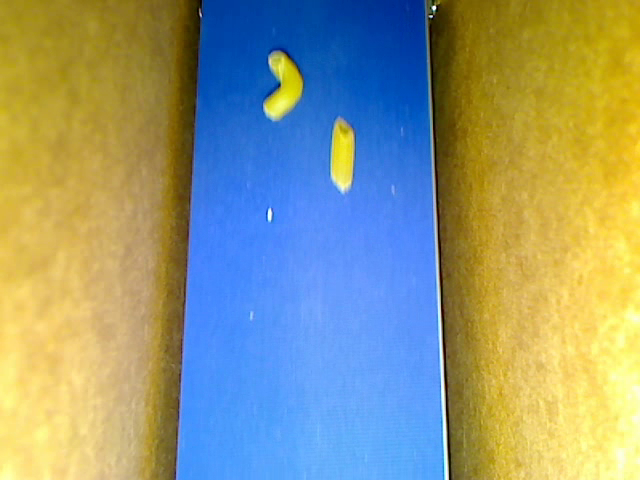elbow: (263, 50, 303, 121)
penne: (330, 117, 355, 192)
